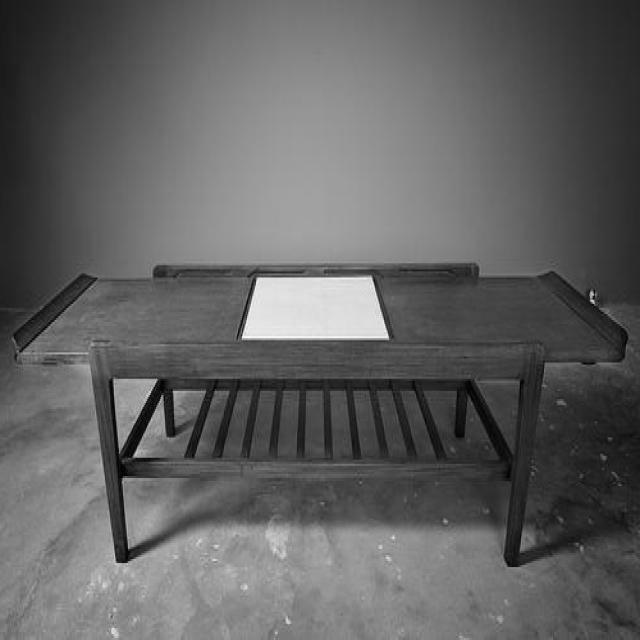table: (8, 260, 628, 560)
